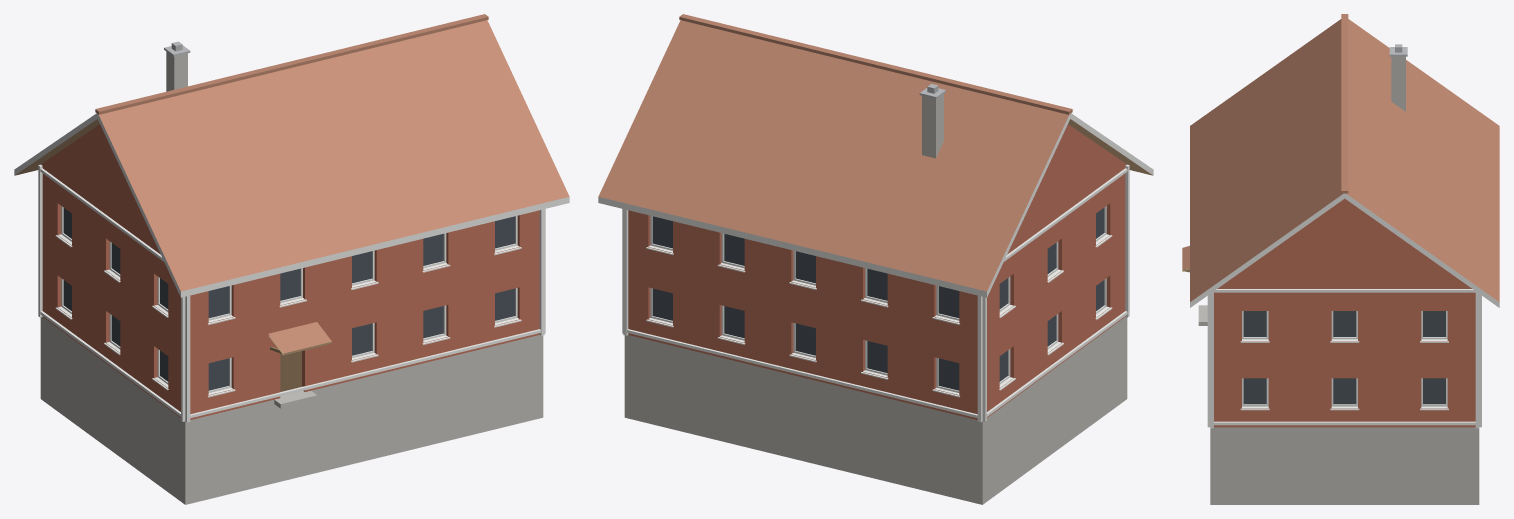
Rendered from nordic_house_2_l.glb.
The picture shows the model from 3 angles, left to right: view 1: azimuth 30°, elevation 25°; view 2: azimuth 150°, elevation 25°; view 3: azimuth 270°, elevation 25°; orthographic projection. The views are drawn at different scales.
Visible parts, largest first — view 1: nordic_house_2_l; view 2: nordic_house_2_l; view 3: nordic_house_2_l.
Boxes of the visible parts, x1=… form: nordic_house_2_l: x1=14, y1=14, x2=569, y2=504; nordic_house_2_l: x1=598, y1=14, x2=1153, y2=504; nordic_house_2_l: x1=1182, y1=14, x2=1499, y2=504.
Bounding box in the file's own units: 16.34 × 14.6 × 12.4.
